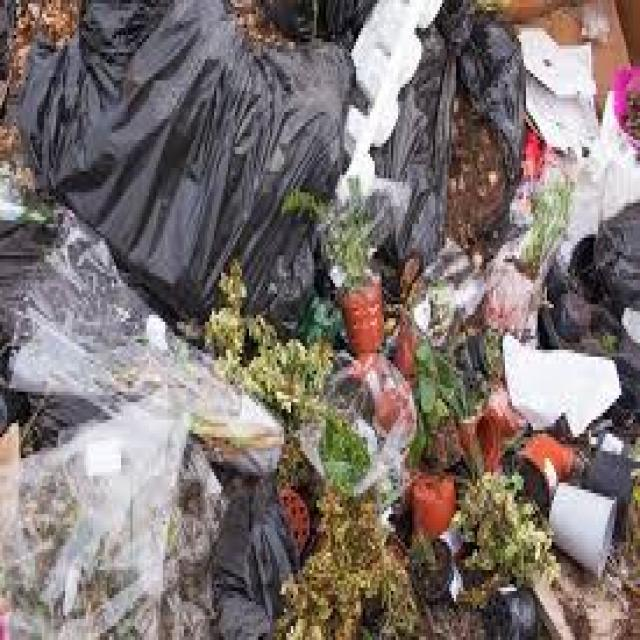food_waste: (264, 176, 620, 623)
